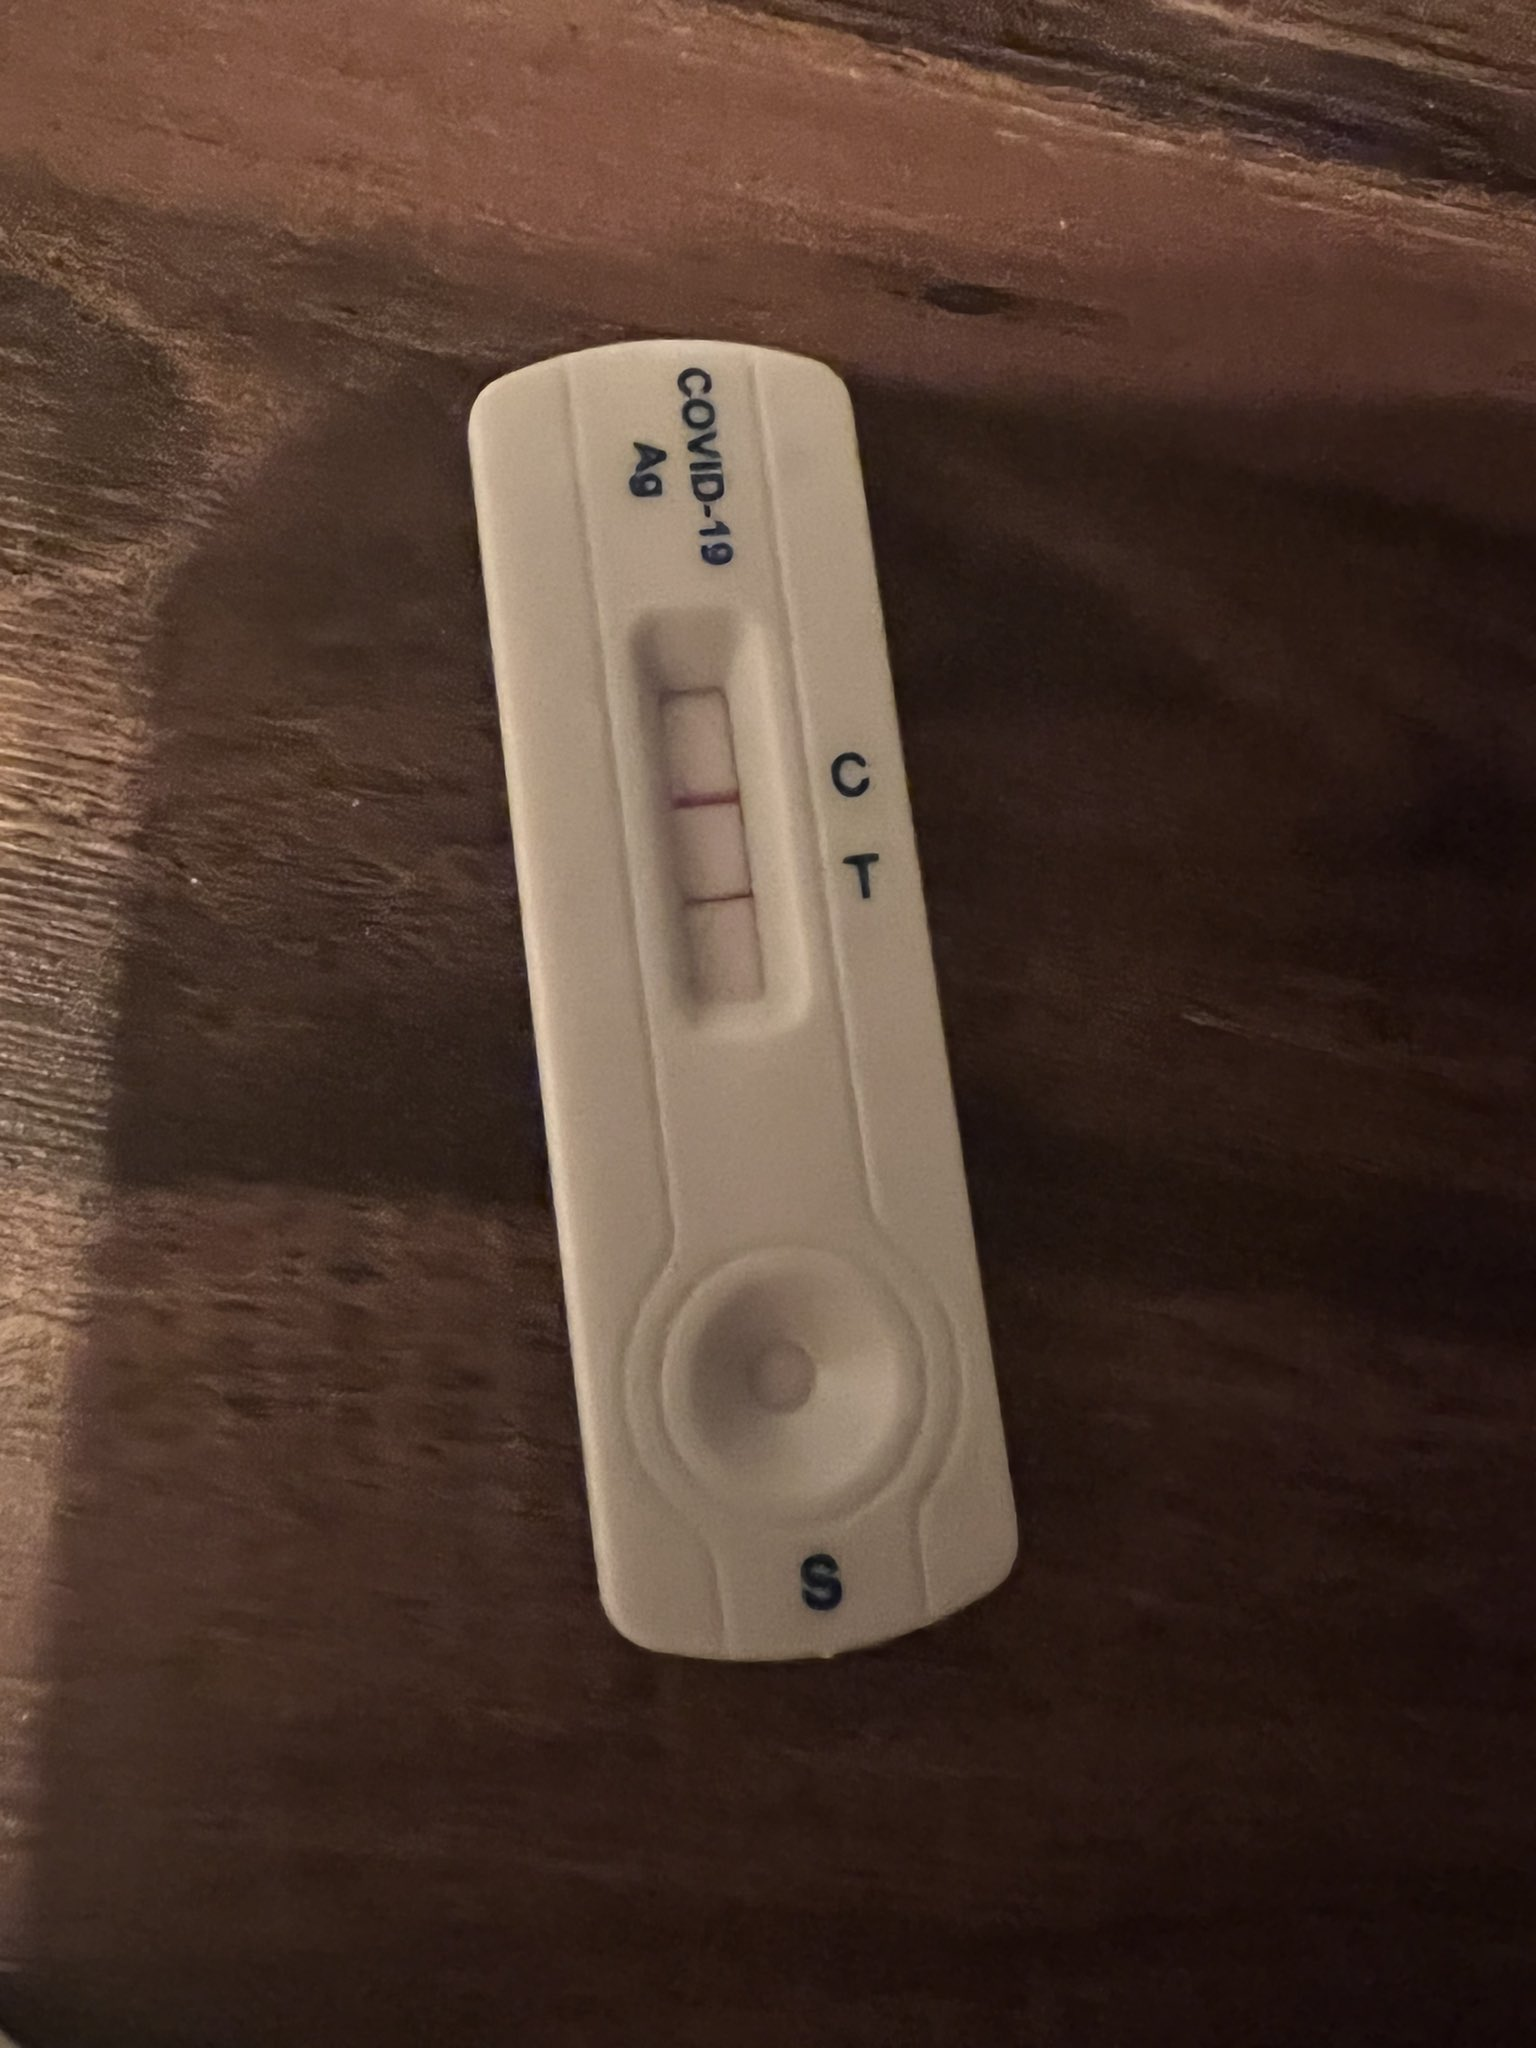positive: (623, 643, 774, 1027)
